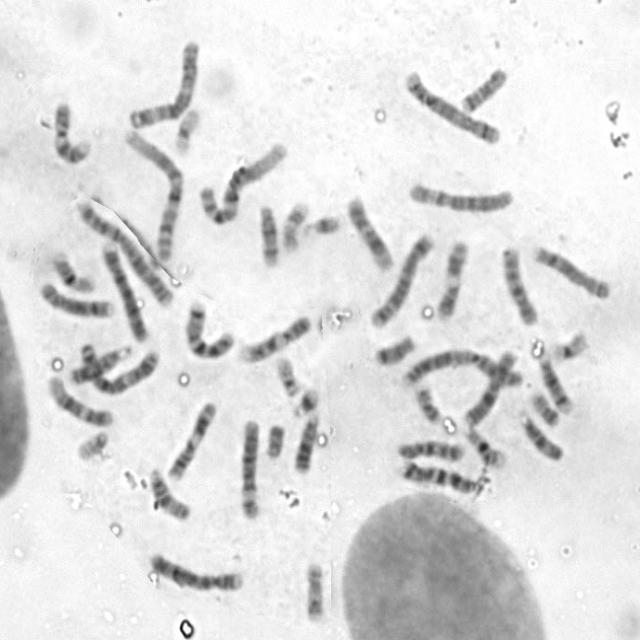A1: (120, 124, 186, 264), (194, 135, 289, 226)
A2: (72, 193, 176, 309), (397, 342, 524, 389)
A3: (124, 33, 202, 130), (74, 336, 162, 396)
B4: (97, 234, 151, 344), (144, 547, 248, 593)
B5: (400, 65, 502, 146), (365, 227, 437, 330)
C10: (497, 240, 541, 328), (393, 434, 468, 463)
C11: (162, 394, 220, 482), (432, 235, 471, 322)
C12: (342, 190, 397, 274), (43, 370, 116, 428)
C6: (402, 175, 518, 215), (235, 413, 264, 521)
C7: (179, 295, 237, 361), (396, 454, 481, 495)
C8: (529, 240, 613, 302), (35, 276, 118, 319)
C9: (234, 309, 314, 364), (48, 96, 94, 166)
D13: (66, 340, 135, 386), (289, 406, 322, 474)
D14: (534, 351, 576, 415), (254, 198, 282, 269)
D15: (515, 404, 566, 464), (145, 462, 194, 522)
E16: (46, 246, 98, 295), (458, 421, 509, 470)
E17: (300, 556, 330, 624), (277, 197, 312, 254)
E18: (456, 62, 509, 114), (369, 329, 418, 368)
F19: (545, 326, 591, 364), (170, 103, 203, 155)
F20: (525, 384, 561, 428), (410, 379, 444, 425)
G21: (288, 381, 322, 419), (300, 209, 342, 238)
G22: (271, 350, 304, 399), (72, 425, 112, 462)
X: (459, 345, 519, 428)
Y: (260, 418, 288, 460)
